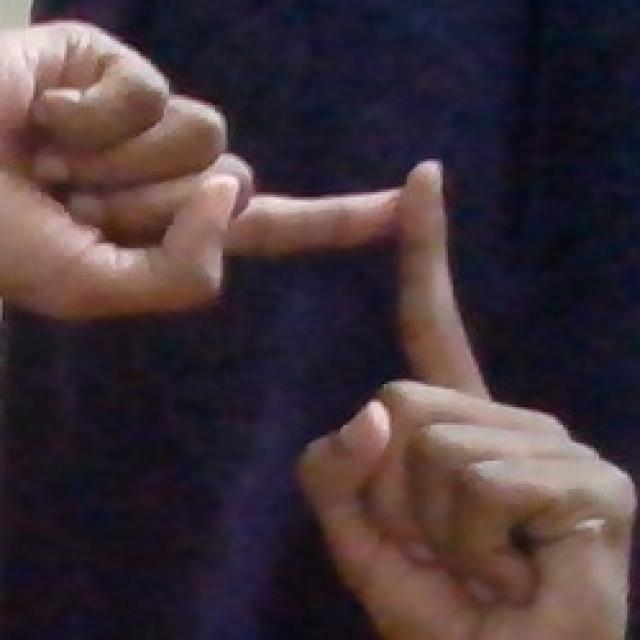Alphabet-E: (0, 20, 401, 320)
